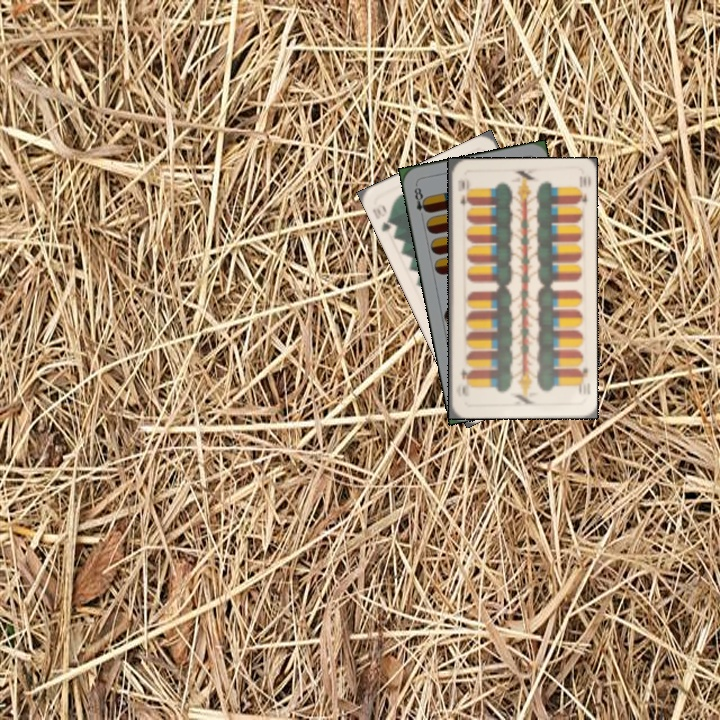E10: (453, 174, 471, 208), (573, 364, 590, 397)
E8: (410, 181, 431, 215)
G10: (368, 200, 399, 236)
